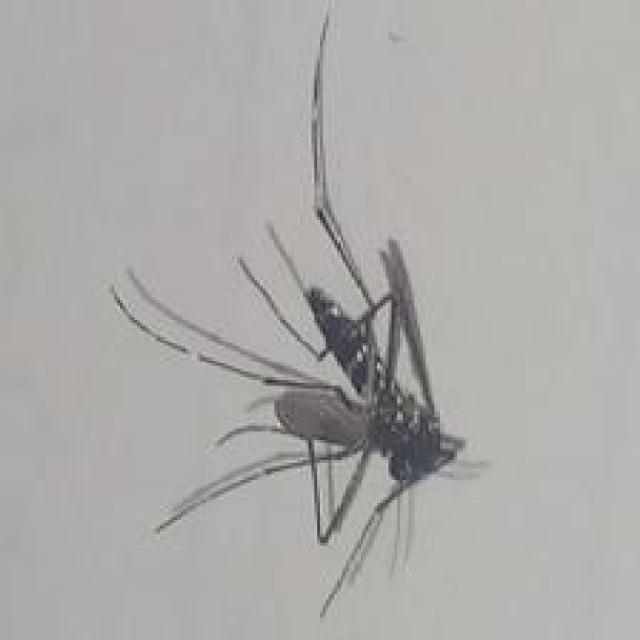Aedes albopictus: (109, 0, 488, 620)
